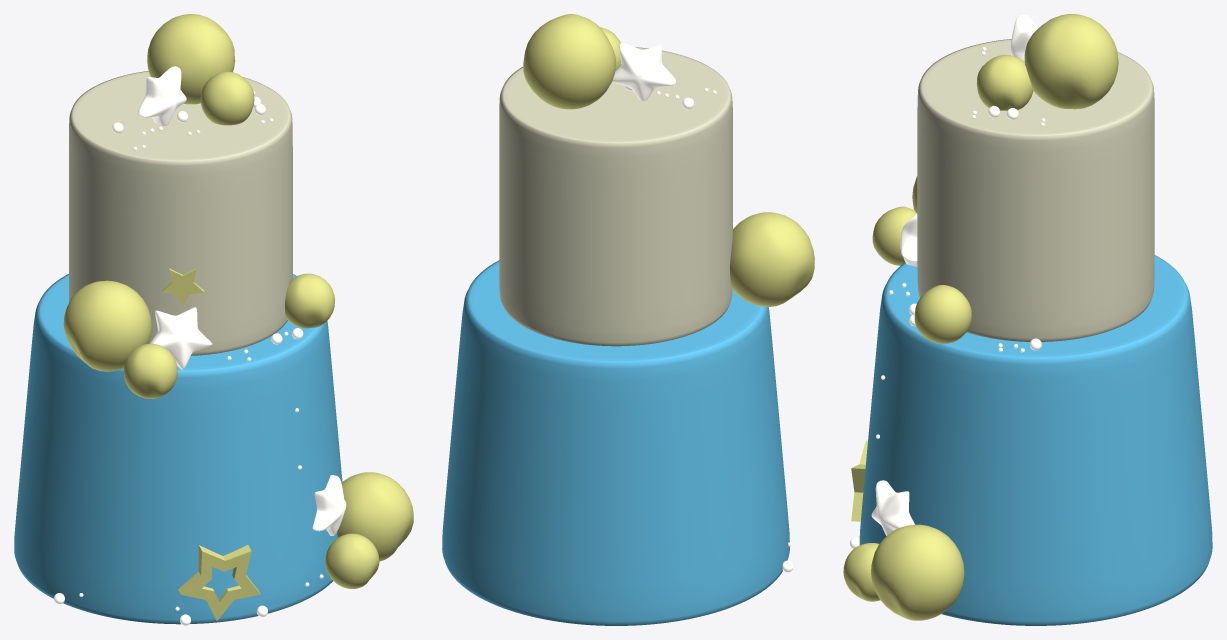
Rendered from Christening_2.glb.
3 renders of one model, left to right at view 1: azimuth 30°, elevation 25°; view 2: azimuth 150°, elevation 25°; view 3: azimuth 270°, elevation 25°, orthographic. The views are drawn at different scales.
Visible parts, largest first — view 1: Circle, Circle.003, Sphere.001, Sphere.005, Sphere, Star.004, Sphere.003, Sphere.042, Sphere.006, Sphere.004, Cylinder.001, Cylinder.002 (+2 smaller); view 2: Circle, Circle.003, Sphere.005, Sphere.001, Cylinder.002; view 3: Circle, Circle.003, Sphere.005, Sphere, Sphere.004, Sphere.006, Sphere.003, Cylinder.007, Sphere.042, Cylinder.002, Star.004, Cylinder.001.
Part boxes in pixels (box(x1,y1,x2,y2)): Circle: box(14, 274, 342, 624); Circle.003: box(69, 71, 292, 355); Sphere.001: box(63, 280, 151, 371); Sphere.005: box(147, 14, 235, 104); Sphere: box(337, 472, 413, 561); Star.004: box(178, 545, 260, 620); Sphere.003: box(123, 343, 177, 398); Sphere.042: box(325, 533, 379, 588); Sphere.006: box(200, 71, 254, 125); Sphere.004: box(285, 273, 334, 328); Cylinder.001: box(150, 307, 212, 369); Cylinder.002: box(138, 66, 186, 125); Circle: box(442, 260, 789, 625); Circle.003: box(499, 47, 732, 346); Sphere.005: box(523, 14, 616, 109); Sphere.001: box(730, 212, 814, 306); Cylinder.002: box(612, 43, 676, 100); Circle: box(859, 255, 1212, 625); Circle.003: box(917, 39, 1154, 341); Sphere.005: box(1024, 14, 1118, 109); Sphere: box(871, 524, 964, 620); Sphere.004: box(914, 285, 971, 343); Sphere.006: box(976, 55, 1033, 110); Sphere.003: box(872, 206, 916, 265); Cylinder.007: box(871, 480, 914, 535); Sphere.042: box(843, 543, 880, 601); Cylinder.002: box(1010, 14, 1037, 61); Star.004: box(851, 440, 867, 521); Cylinder.001: box(900, 213, 917, 266).
Size of the model in its own units: 0.1634 by 0.2541 by 0.1546.
